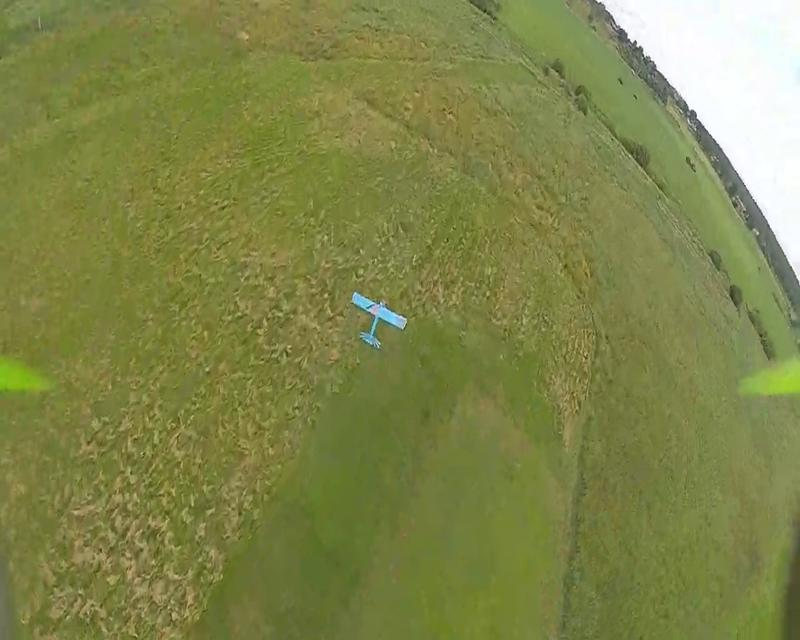UAV: (351, 292, 409, 348)
